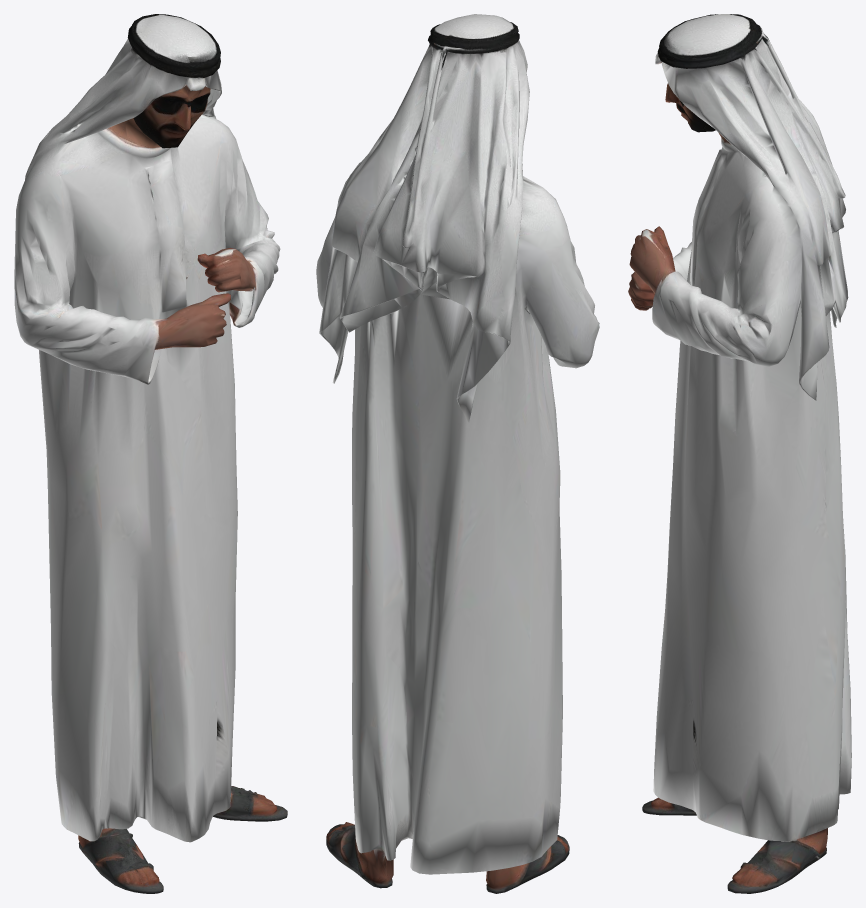
The model's file is gcc-3-near.glb.
The picture shows the model from 3 angles, left to right: view 1: azimuth 30°, elevation 25°; view 2: azimuth 150°, elevation 25°; view 3: azimuth 270°, elevation 25°; orthographic projection. The views are drawn at different scales.
Visible parts, largest first — view 1: Mesh_0; view 2: Mesh_0; view 3: Mesh_0.
Part boxes in pixels (left/top/right/bottom): Mesh_0: left=14, top=14, right=287, bottom=893; Mesh_0: left=316, top=14, right=599, bottom=893; Mesh_0: left=628, top=14, right=851, bottom=893.
Bounding box in the file's own units: 0.6374 × 1.9 × 0.4744.
Materials: 1 (1 with a texture image).
